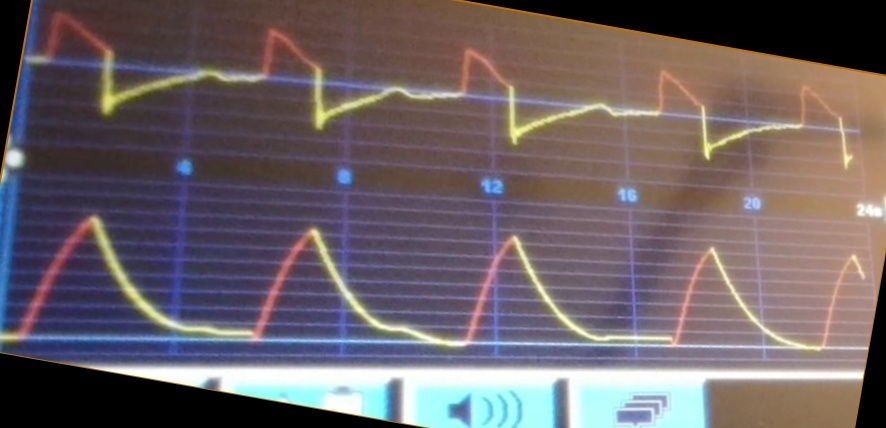Ineffective_effort Flow: (37, 9, 854, 171)
Ineffective_effort Volume: (13, 211, 866, 357)
